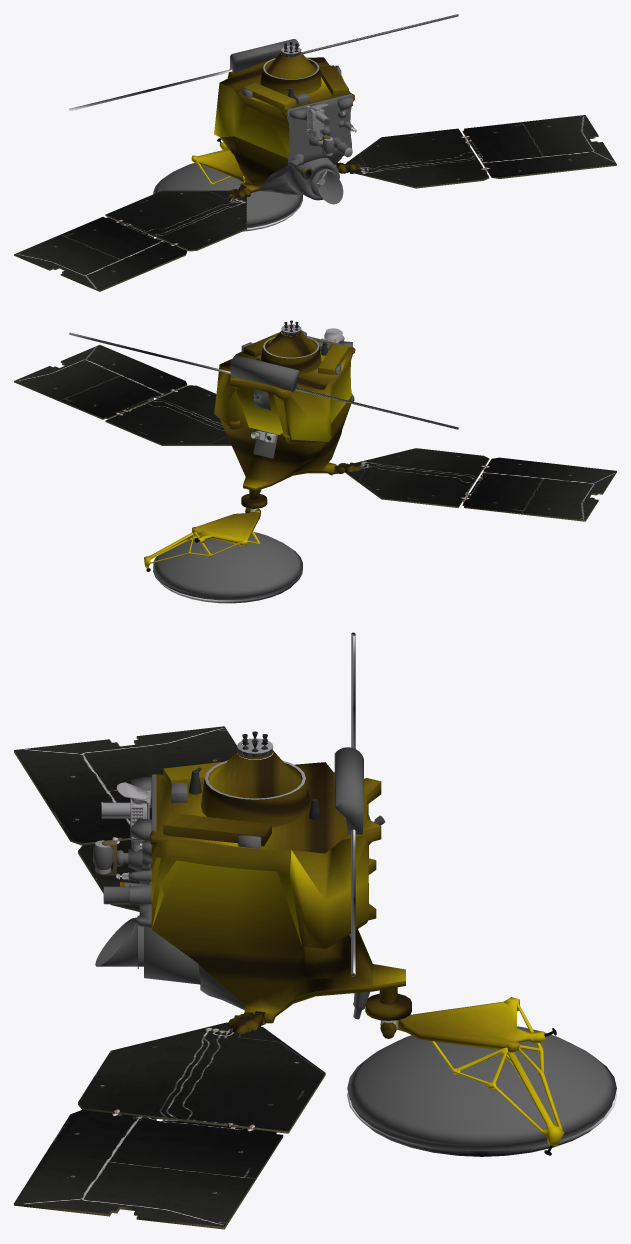
File: mars-reconnaissance-orbiter-web.glb
The picture shows the model from 3 angles, top to bottom: view 1: azimuth 30°, elevation 25°; view 2: azimuth 150°, elevation 25°; view 3: azimuth 270°, elevation 25°; orthographic projection. The views are drawn at different scales.
Visible parts, largest first — view 1: tex_01, tex_02, foil_gold, black_krinkle, foil_silver2; view 2: foil_gold, tex_01, tex_02, black_krinkle, foil_silver2; view 3: foil_gold, tex_01, black_krinkle, tex_02, foil_silver2.
Part boxes in pixels (left/top/right/bottom): tex_01: left=14, top=45, right=616, bottom=291; tex_02: left=106, top=128, right=488, bottom=249; foil_gold: left=191, top=52, right=360, bottom=198; black_krinkle: left=153, top=39, right=353, bottom=228; foil_silver2: left=69, top=14, right=458, bottom=231; foil_gold: left=144, top=331, right=360, bottom=568; tex_01: left=14, top=324, right=616, bottom=571; tex_02: left=106, top=385, right=488, bottom=506; black_krinkle: left=153, top=330, right=352, bottom=600; foil_silver2: left=69, top=320, right=458, bottom=603; foil_gold: left=120, top=748, right=564, bottom=1146; tex_01: left=14, top=726, right=556, bottom=1229; black_krinkle: left=93, top=747, right=616, bottom=1151; tex_02: left=78, top=840, right=325, bottom=1131; foil_silver2: left=189, top=632, right=616, bottom=1156.
Size of the model in its own units: 13.18 by 4.88 by 6.71.
Materials: 5 (4 with a texture image).
